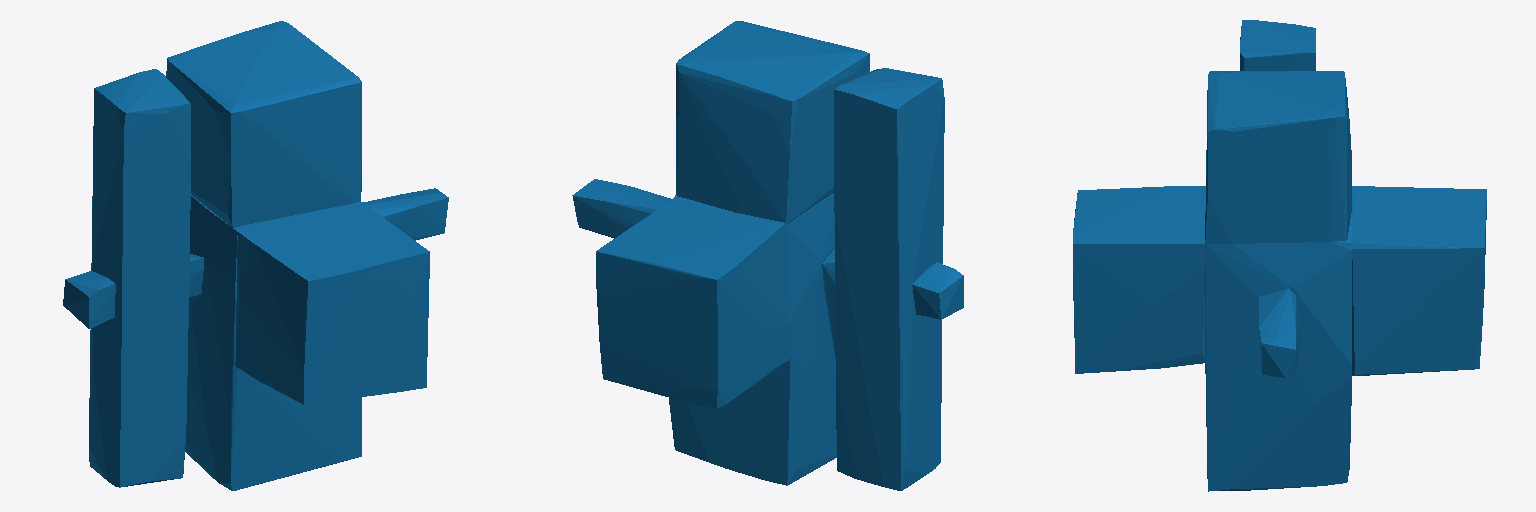
The robot description file, URDF, robot "blob300":
<robot name="blob300">
  <link name="random_obj_300">
    <contact>
      <lateral_friction value="1.0"/>
      <rolling_friction value="0.0"/>
      <inertia_scaling value="3.0"/>
      <contact_cfm value="0.0"/>
      <contact_erp value="1.0"/>
    </contact>
    <inertial>
      <origin rpy="0 0 0" xyz="0 0 0"/>
      <mass value="0.1"/>
      <inertia ixx="1" ixy="0" ixz="0" iyy="1" iyz="0" izz="0"/>
    </inertial>
    <visual>
      <origin rpy="0 0 0" xyz="0 0 0"/>
      <geometry>
        <mesh filename="300.obj" scale="0.015 0.015 0.015"/>
      </geometry>
      <material name="blockmat">
        <color rgba="0.12 0.49 0.70 1"/>
      </material>
    </visual>
    <collision>
      <origin rpy="0 0 0" xyz="0 0 0"/>
      <geometry>
        <mesh filename="300.obj" scale="0.015 0.015 0.015"/>
      </geometry>
    </collision>
  </link>
</robot>

--- Render facts (derived) ---
Views: 3 orthographic renders of the robot side by side, from view 1: azimuth 30°, elevation 25°; view 2: azimuth 150°, elevation 25°; view 3: azimuth 270°, elevation 25°.
Model blob300 with 1 links and 0 joints (none), rooted at random_obj_300, posed all joints at 0.
Visible links, largest first — view 1: random_obj_300; view 2: random_obj_300; view 3: random_obj_300.
Boxes of the visible links, left/top/right/bottom form: random_obj_300: left=63, top=21, right=448, bottom=490; random_obj_300: left=572, top=21, right=963, bottom=490; random_obj_300: left=1073, top=20, right=1486, bottom=491.
Size in the robot's own frame: 0.0924 by 0.0935 by 0.0935 metres.
Meshes: 1 distinct files referenced, 1 mesh visuals loaded (1 OBJ).